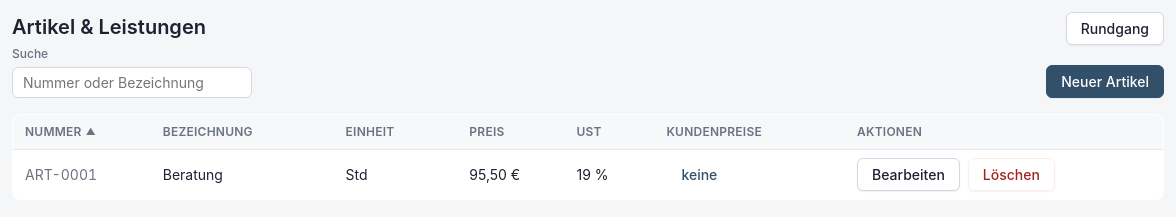
Test: Artikel › zeigt einen Hinweis, wenn die Suche keine Treffer liefert
The width and height of the screenshot is (1176, 217).
Expected: the text "Beratung" is shown, [151, 150, 334, 200]
In the search field labelled "Suche": point(132, 82) [12, 67, 252, 98], type "xyz"
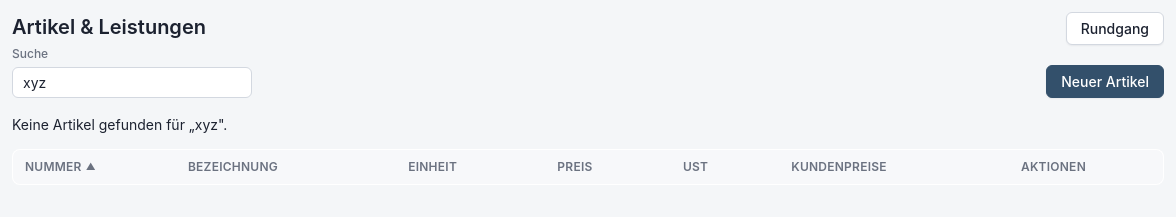
Now the text "Keine Artikel gefunden für „xyz\"." is shown, box [12, 116, 227, 133]
